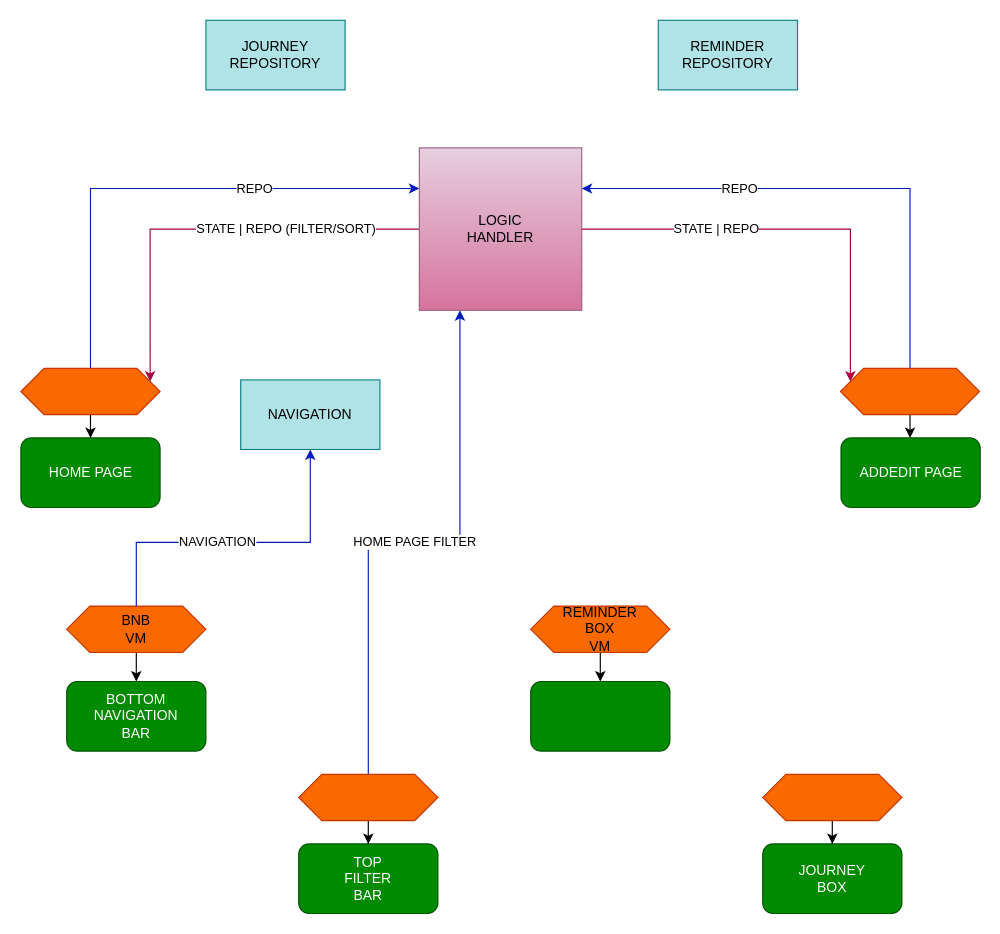
The diagram is 1000 pixels wide and 934 high, and some of its shapes have lost their labels. The shapes that lost their labels are listed below. From the top down, each one's centre as x and y in pixels, then its label:
the point at 90,391: HOME PAGE VM
the point at 909,391: ADDEDIT PAGE VM
the point at 600,715: REMINDER BOX
the point at 368,797: TFB VM
the point at 832,797: JOURNEY BOX VM
